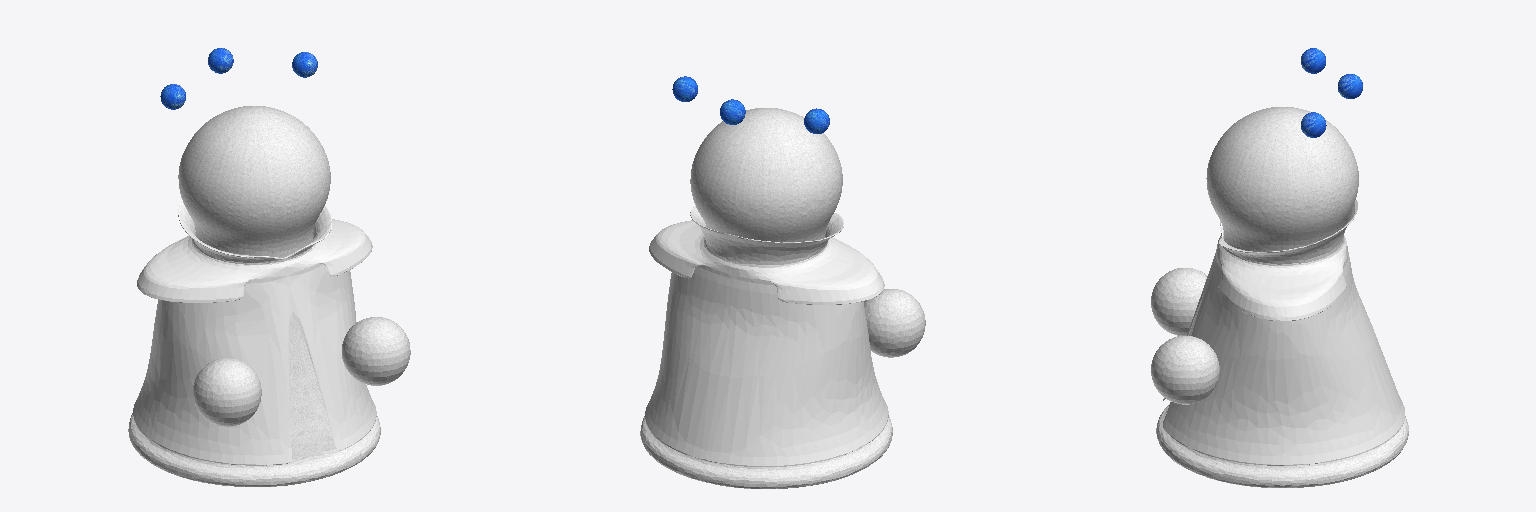
The picture shows the model from 3 angles: view 1: azimuth 30°, elevation 25°; view 2: azimuth 150°, elevation 25°; view 3: azimuth 270°, elevation 25°; orthographic projection.
Visible parts, largest first — view 1: Robe, Body, Hand2_Hand1.001, Hand1, Sphere1, Sphere3; view 2: Robe, Body, Hand1; view 3: Robe, Body, Hand2_Hand1.001, Hand1.
Boxes of the visible parts, <box> form: Robe: <box>133,200,376,465</box>; Body: <box>128,106,380,486</box>; Hand2_Hand1.001: <box>342,317,410,385</box>; Hand1: <box>193,358,261,426</box>; Sphere1: <box>208,48,233,73</box>; Sphere3: <box>292,52,317,77</box>; Robe: <box>645,206,888,466</box>; Body: <box>640,108,892,488</box>; Hand1: <box>864,289,925,357</box>; Robe: <box>1163,200,1404,465</box>; Body: <box>1156,107,1408,487</box>; Hand2_Hand1.001: <box>1151,336,1219,404</box>; Hand1: <box>1151,268,1206,335</box>.
Bounding box in the file's own units: 0.5984 × 0.9212 × 0.595.
Materials: 2 (2 with a texture image).